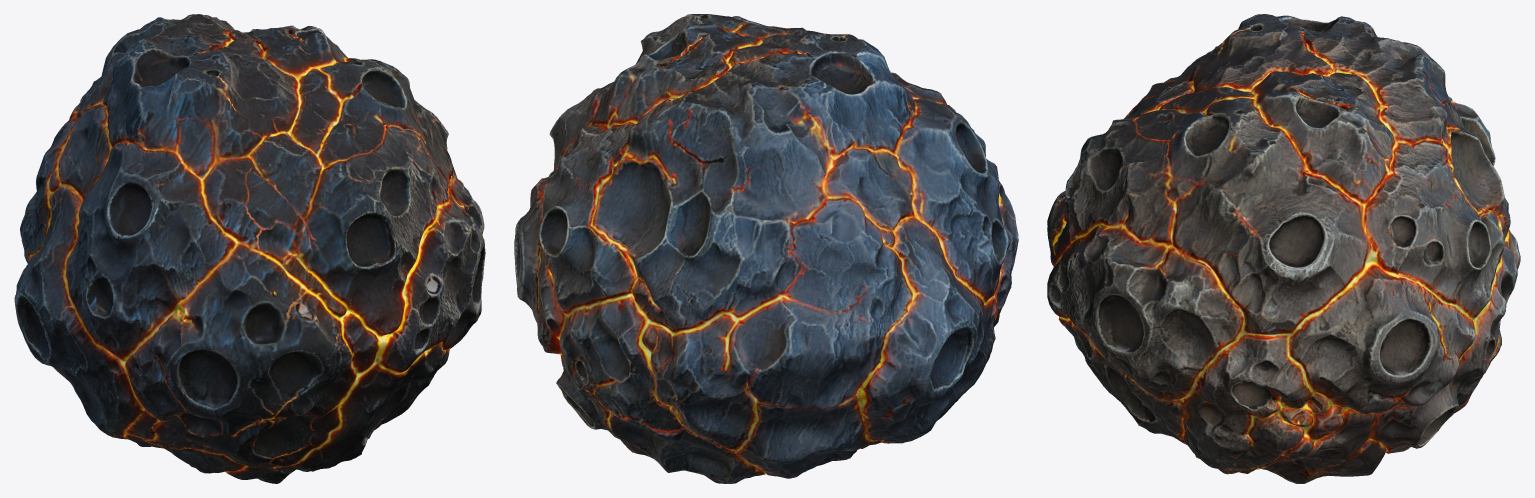
3 views of the same model, side by side, from view 1: azimuth 30°, elevation 25°; view 2: azimuth 150°, elevation 25°; view 3: azimuth 270°, elevation 25° (orthographic). The views are drawn at different scales.
Bounding box in the file's own units: 0.972 × 0.9707 × 1.
Materials: 1 (1 with a texture image).
